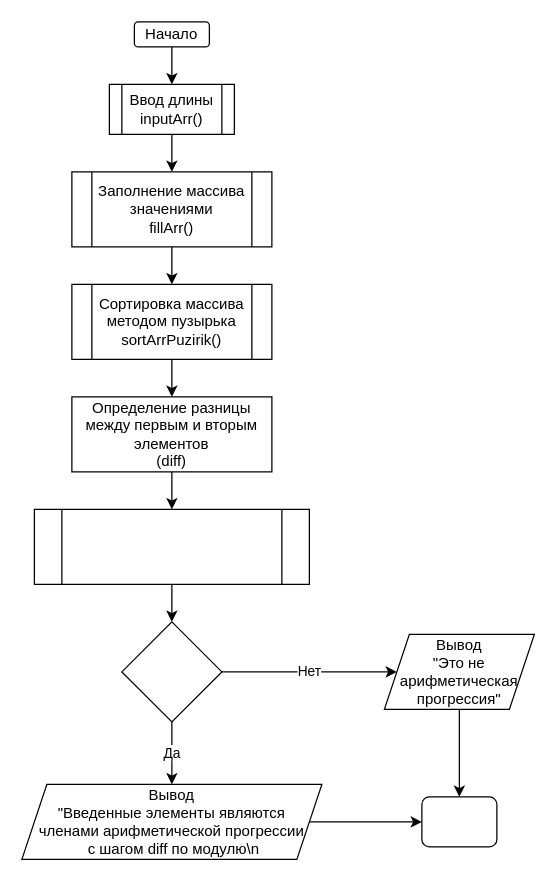
Image size: 556x881. Some labels were removed from this diagram. Each missing label, with the centre of its shape:
"Конец" belongs at pixel 459 821.
"Является данный массив арифметической прогрессией с шагом diff? isTrueArr()" belongs at pixel 171 546.
"Является?" belongs at pixel 171 671.
